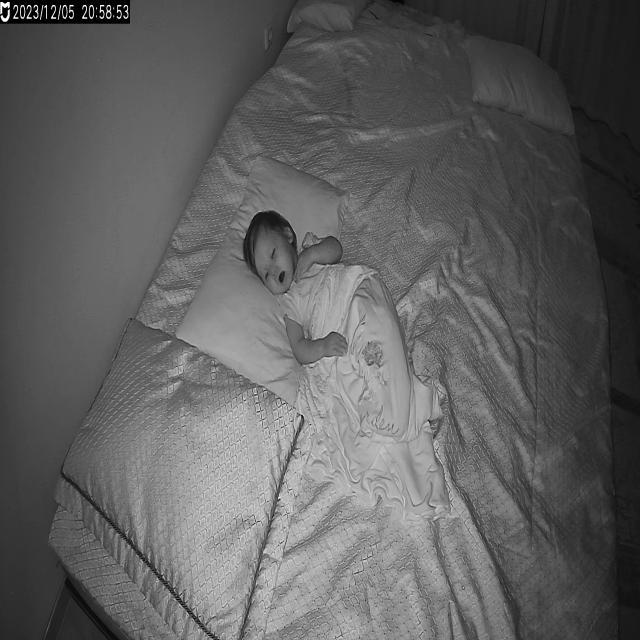baby: (242, 207, 426, 438)
